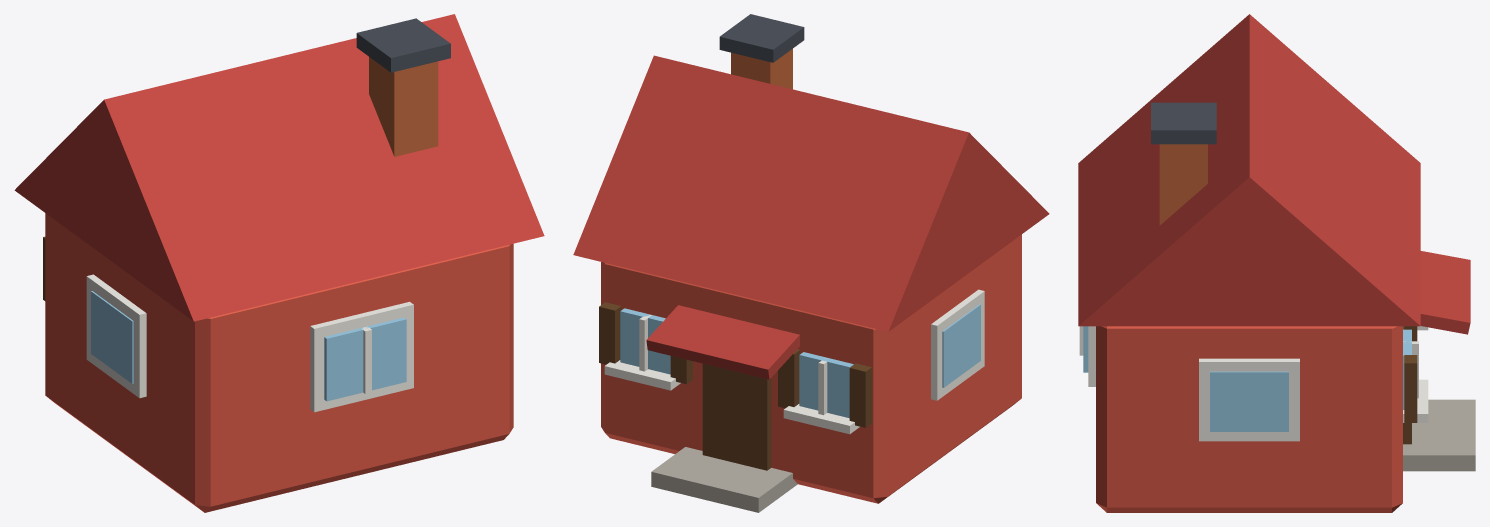
File: house_cottage.glb
The picture shows the model from 3 angles, left to right: view 1: azimuth 30°, elevation 25°; view 2: azimuth 150°, elevation 25°; view 3: azimuth 270°, elevation 25°; orthographic projection. The views are drawn at different scales.
Visible parts, largest first — view 1: house_cottage; view 2: house_cottage; view 3: house_cottage.
Boxes of the visible parts, x1,y1,x2,y2 form: house_cottage: [14, 14, 544, 512]; house_cottage: [573, 14, 1049, 512]; house_cottage: [1078, 14, 1475, 512].
Size of the model in its own units: 1.76 by 1.86 by 1.81.
1 material, 1 textured.
